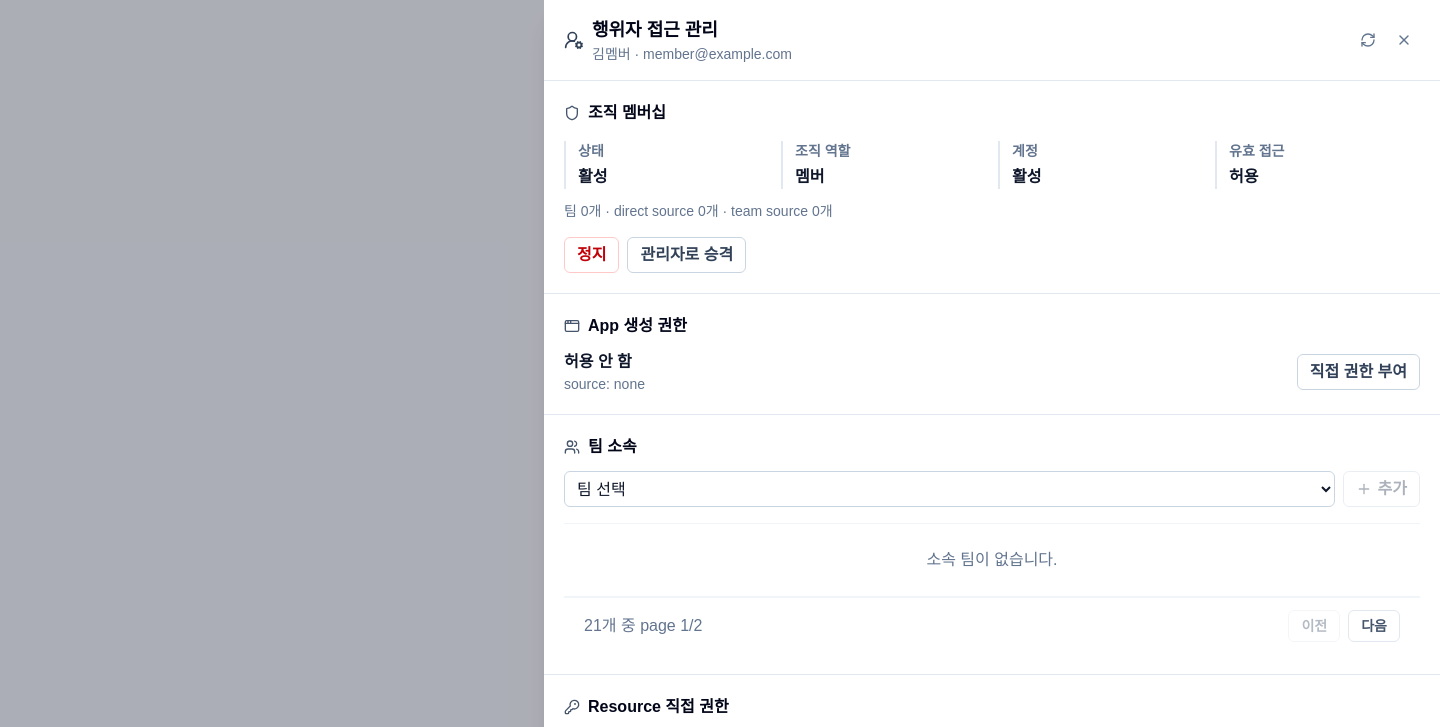
Test case: ActorAccessDrawer › 다른 page에 존재하는 team membership을 exact filter로 확인해 중복 추가를 막는다
Check: the text "김멤버 · member@example.com" is shown, box [592, 44, 792, 64]
Select "Builders" in the dropdown named "추가할 팀" at x=949, y=489, box [564, 471, 1334, 507]
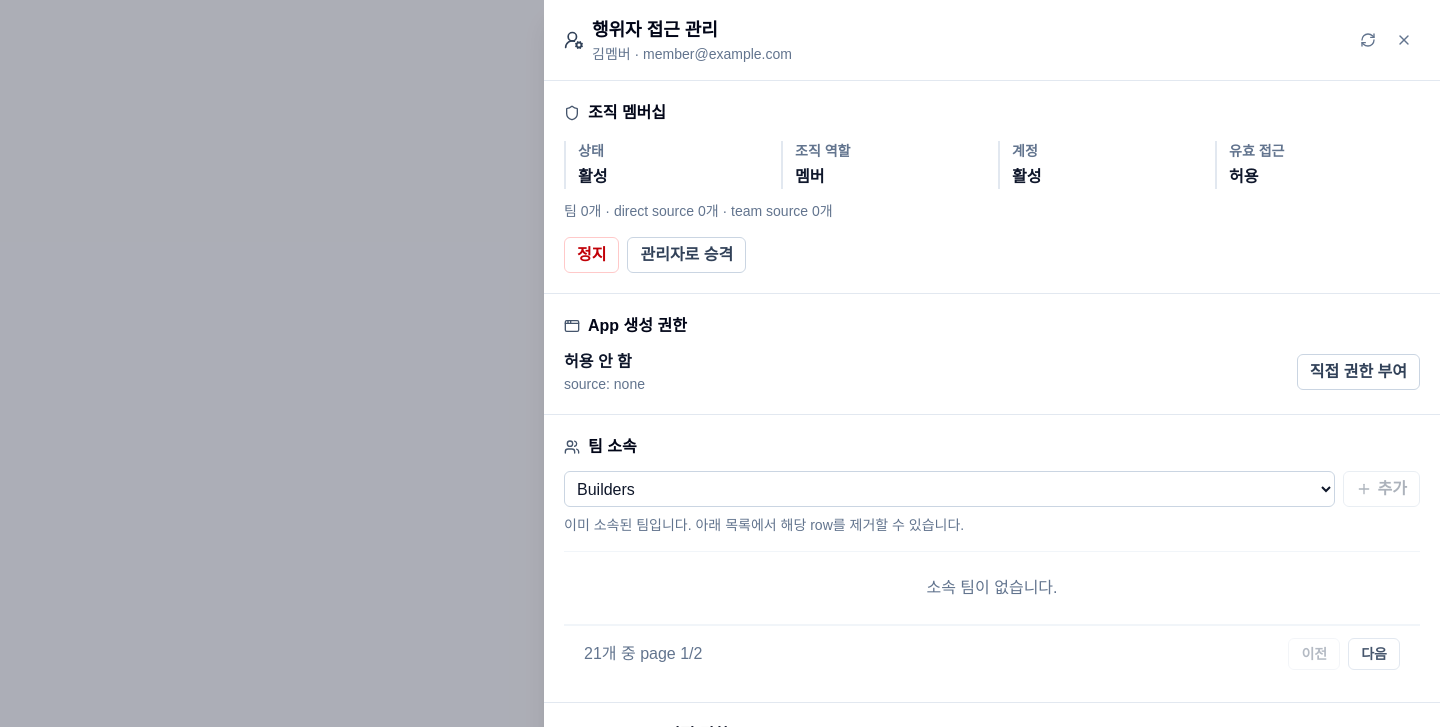
Check: the button with aria-label "추가:" is disabled, box [1342, 471, 1420, 507]
Check: the text "이미 소속된 팀입니다. 아래 목록에서 해당 row를 제거할 수 있습니다." is shown, box [564, 517, 964, 533]
